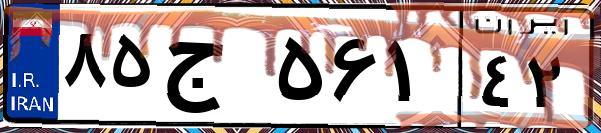1: (385, 28, 445, 110)
2: (525, 38, 570, 115)
4: (475, 38, 525, 113)
5: (270, 28, 330, 110), (110, 28, 158, 98)
6: (330, 28, 385, 110)
8: (57, 26, 110, 100)
ج: (158, 20, 270, 120)
